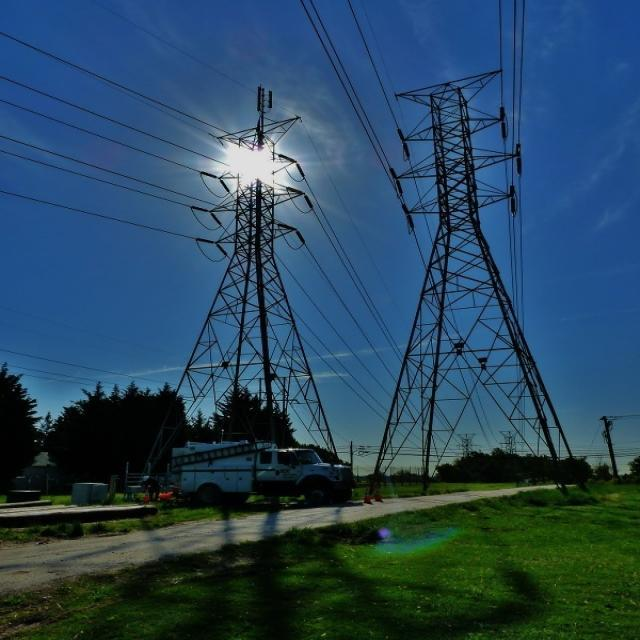non-critical vegetation: (384, 74, 563, 473), (188, 99, 330, 392)
